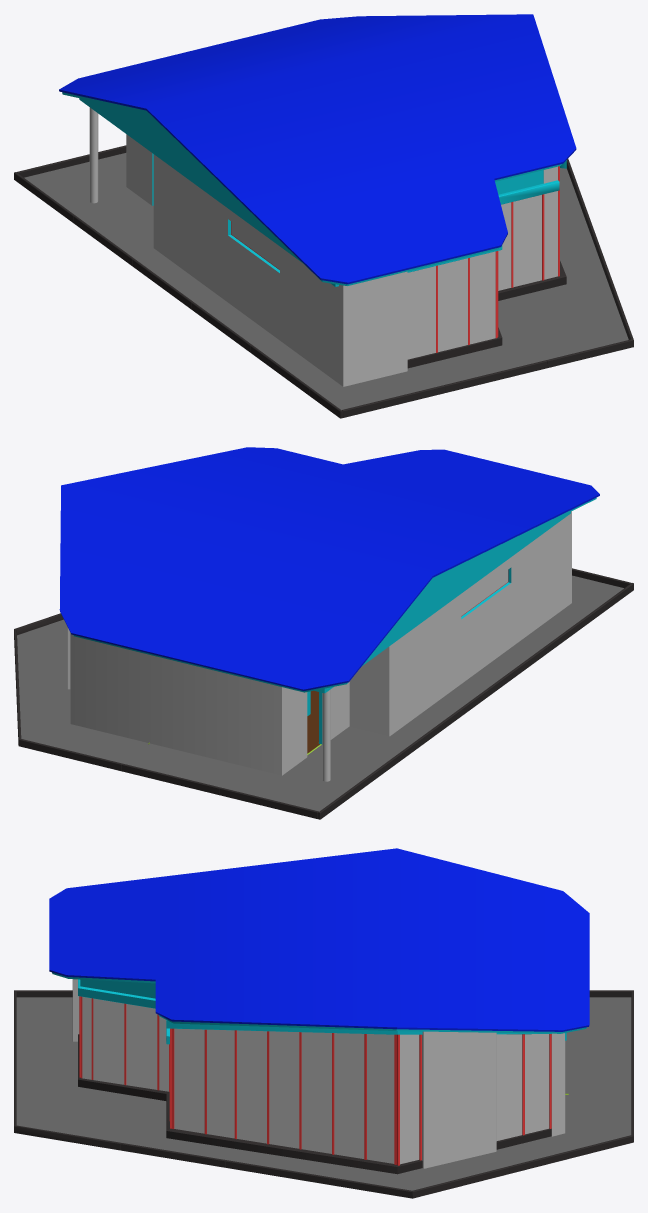
Rendered from domik po materialam.fbx.
The picture shows the model from 3 angles, top to bottom: view 1: azimuth 30°, elevation 25°; view 2: azimuth 150°, elevation 25°; view 3: azimuth 270°, elevation 25°; orthographic projection. The views are drawn at different scales.
Parts seen in each view (by area): view 1: krisha, steni, trotuar, steklo, bordur, peregorodki, rami; view 2: krisha, steni, trotuar, bordur, peregorodki, pol, steklo; view 3: krisha, steklo, trotuar, steni, bordur, rami, peregorodki.
Part boxes in pixels (x1,y1,x2,y2): krisha: (59, 14, 576, 284); steni: (89, 107, 557, 386); trotuar: (24, 153, 628, 410); steklo: (231, 195, 541, 359); bordur: (14, 145, 633, 418); peregorodki: (62, 92, 566, 286); rami: (231, 166, 559, 352); krisha: (59, 447, 599, 690); steni: (67, 511, 571, 781); trotuar: (17, 575, 623, 811); bordur: (14, 568, 633, 819); peregorodki: (73, 497, 596, 744); pol: (307, 690, 319, 753); steklo: (461, 570, 507, 615); krisha: (49, 848, 589, 1031); steklo: (82, 997, 549, 1164); trotuar: (16, 997, 631, 1190); steni: (72, 979, 565, 1168); bordur: (14, 990, 633, 1198); rami: (79, 996, 551, 1165); peregorodki: (52, 972, 586, 1044).
Size of the model in its own units: 5827 by 2142 by 7573.
